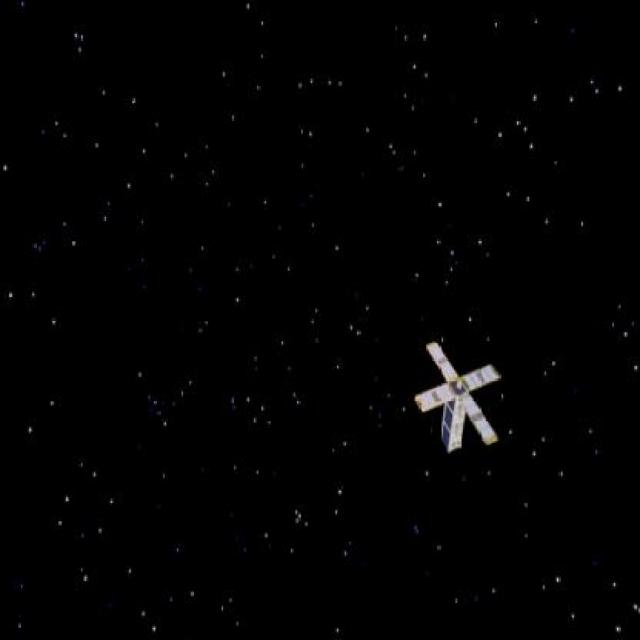medium_debris: (412, 338, 514, 464)
